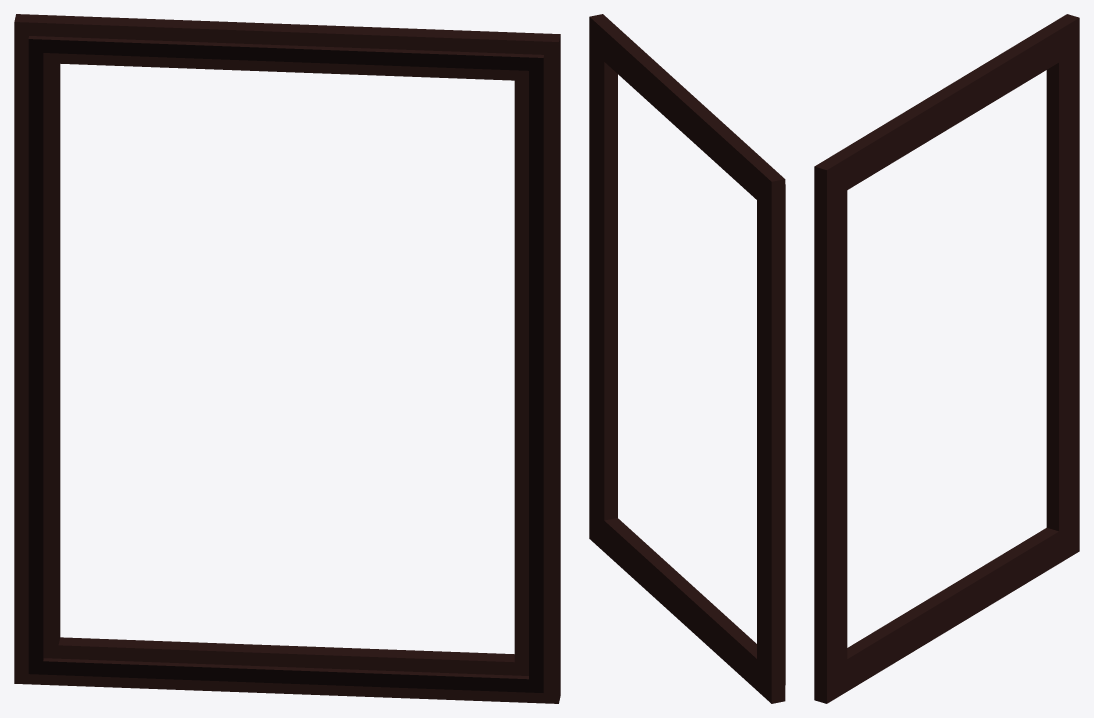
The model's file is Picture frame.fbx.
3 views of the same model, side by side, from view 1: azimuth 30°, elevation 25°; view 2: azimuth 150°, elevation 25°; view 3: azimuth 270°, elevation 25° (orthographic). The views are drawn at different scales.
Parts seen in each view (by area): view 1: Box001; view 2: Box001; view 3: Box001.
Boxes of the visible parts, x1,y1,x2,y2 form: Box001: [14, 14, 560, 703]; Box001: [589, 14, 785, 703]; Box001: [814, 14, 1079, 703].
Bounding box in the file's own units: 413782 × 659030 × 296856.
